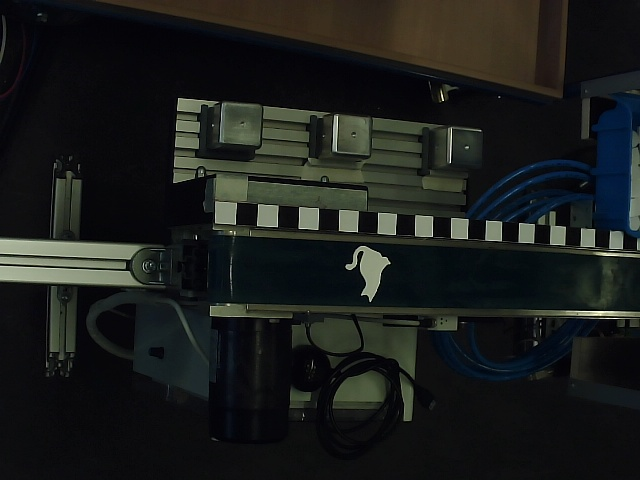cat: (344, 245, 392, 303)
